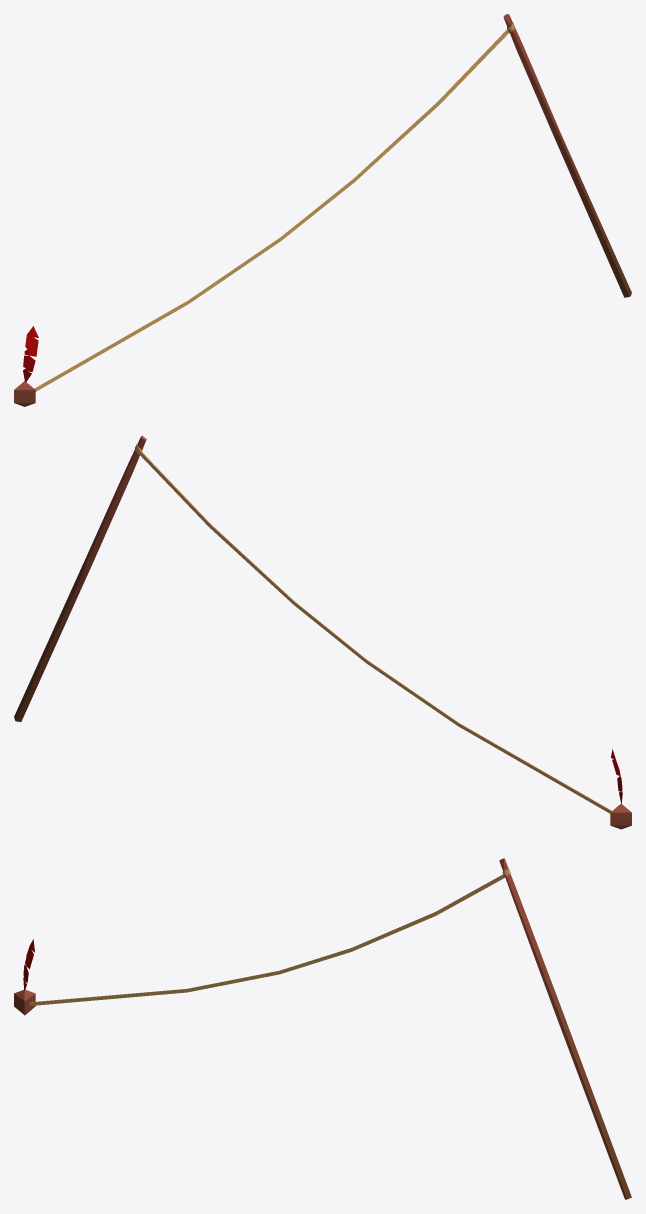
3 views of the same model, one above another, from view 1: azimuth 30°, elevation 25°; view 2: azimuth 150°, elevation 25°; view 3: azimuth 330°, elevation 25° (orthographic).
Visible parts, largest first — view 1: FishingRod; view 2: FishingRod; view 3: FishingRod.
Part boxes in pixels (x1,y1,x2,y2): FishingRod: (14, 14, 631, 406); FishingRod: (14, 435, 631, 829); FishingRod: (14, 858, 631, 1199).
Bounding box in the file's own units: 6.71 × 3.26 × 0.2038.
Materials: 1 (1 with a texture image).
